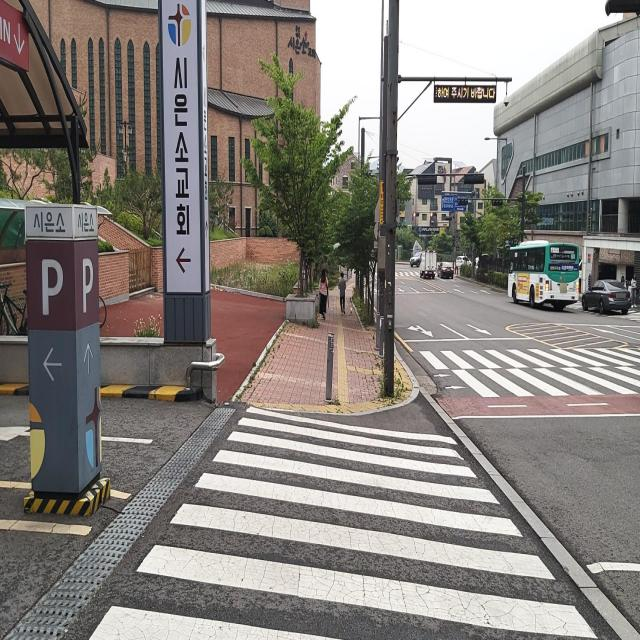횡단보도: (84, 397, 601, 640), (419, 342, 640, 403)
